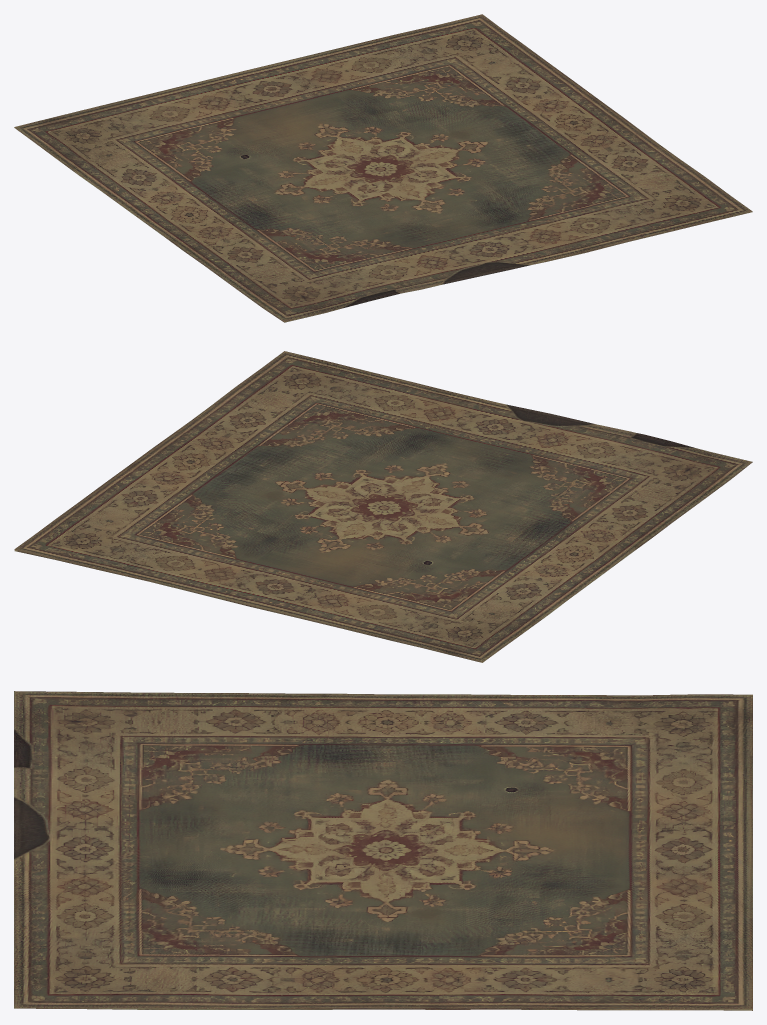
The model's file is Carpet2.fbx.
3 renders of one model, top to bottom at view 1: azimuth 30°, elevation 25°; view 2: azimuth 150°, elevation 25°; view 3: azimuth 270°, elevation 25°, orthographic. The views are drawn at different scales.
Parts seen in each view (by area): view 1: mesh_node; view 2: mesh_node; view 3: mesh_node.
Part boxes in pixels (x1,y1,x2,y2): mesh_node: (14, 14, 752, 322); mesh_node: (14, 351, 752, 662); mesh_node: (14, 691, 752, 1010).
Bounding box in the file's own units: 100 × 1.29 × 100.
1 material, 1 textured.
